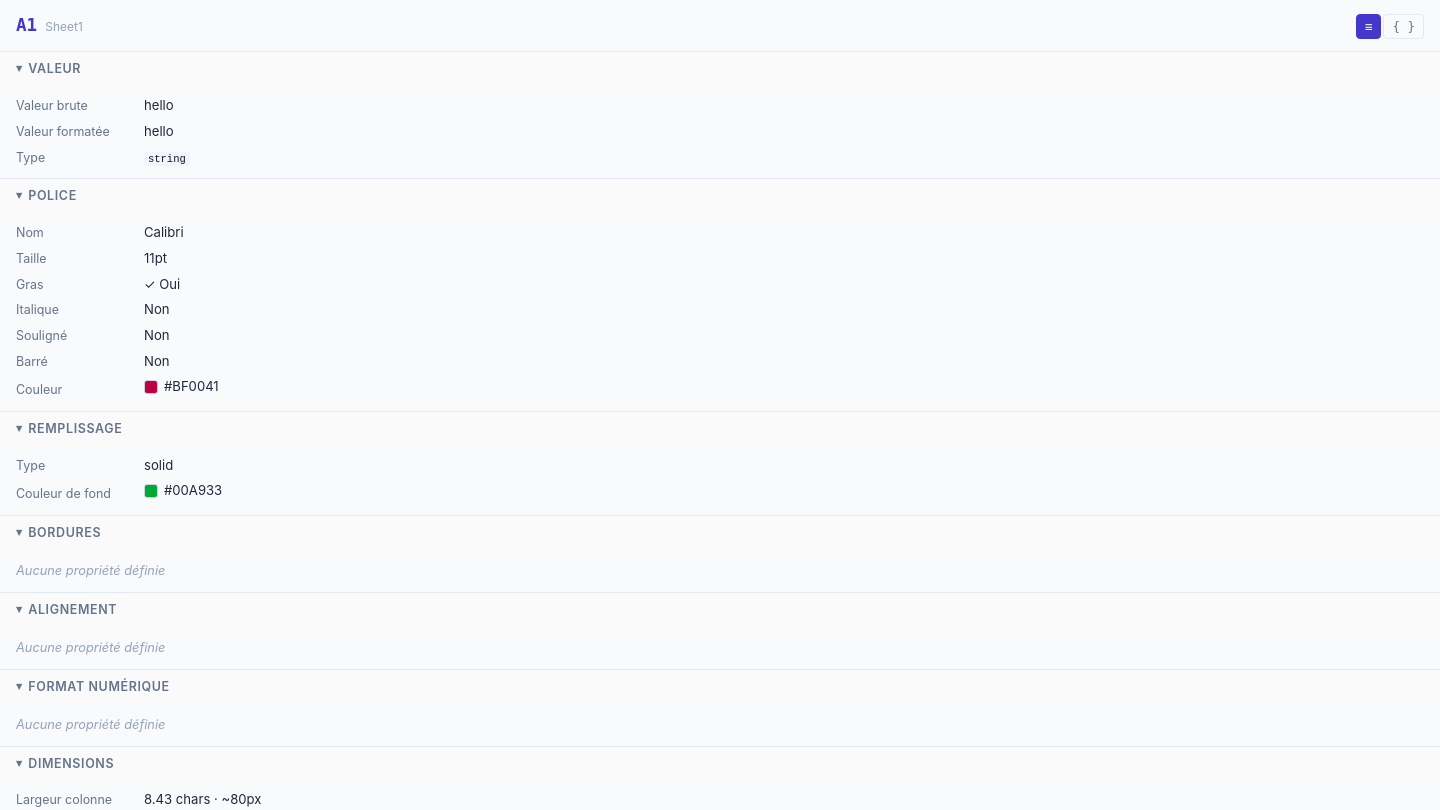
Test: CellInspector — toggle structuré / JSON › bascule en mode JSON au clic sur { }
Expected: the heading "Police" is shown, [0,179,1439,214]
Step 1. Click the button titled "Vue JSON" → click(1404, 27), box [1384,14,1424,40]
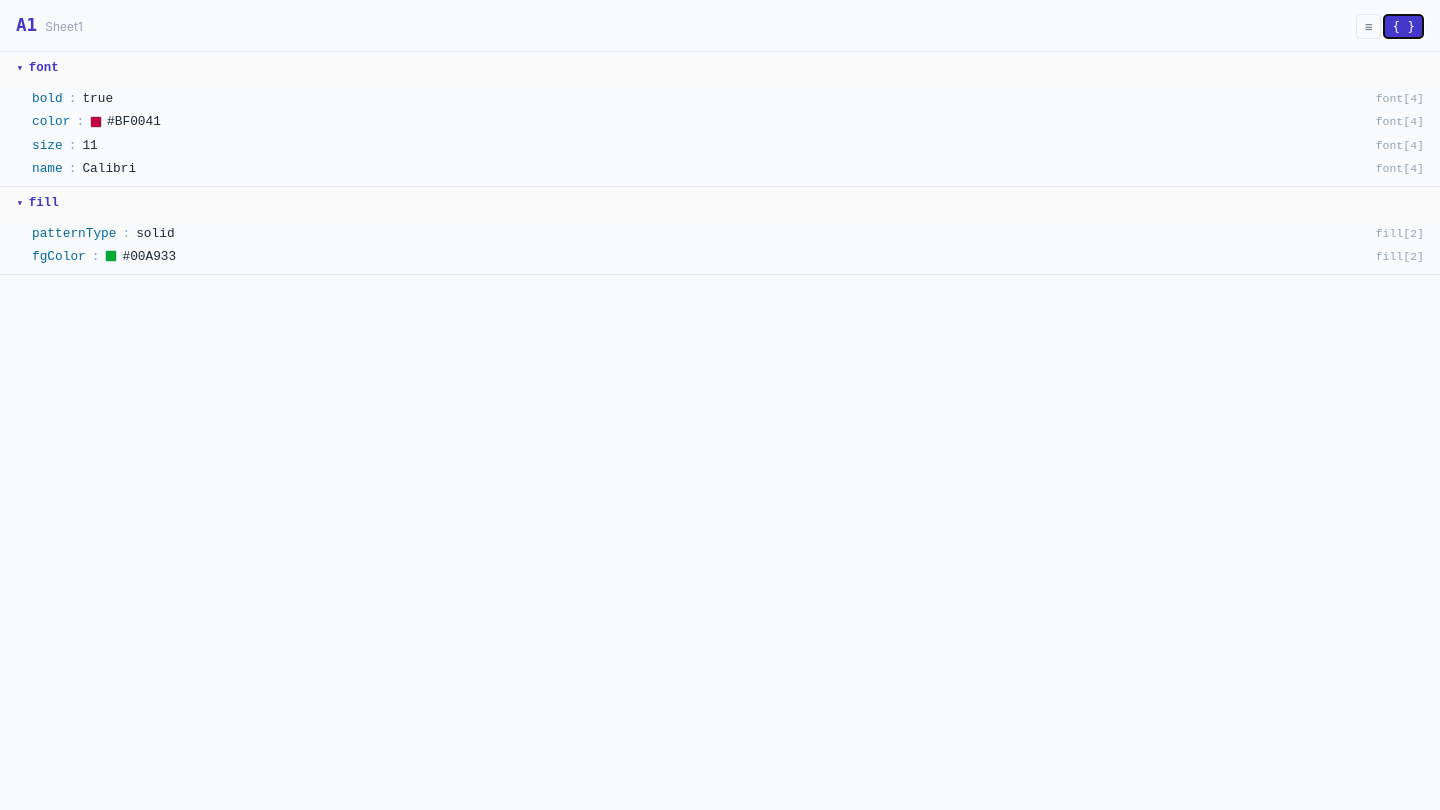
Expected: the heading "font" is shown, [0,52,1439,85]
Expected: the heading "Police" is gone
